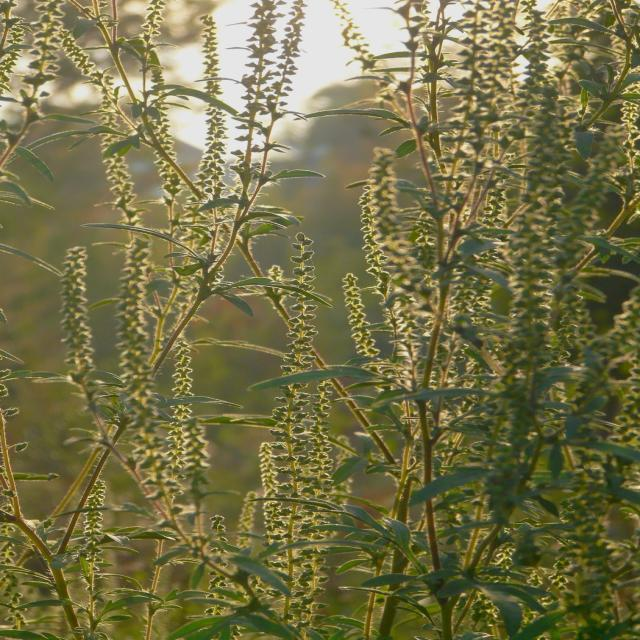ambrosia: (398, 0, 640, 360), (36, 208, 226, 508), (30, 4, 242, 188), (237, 368, 339, 608), (264, 224, 372, 356)
